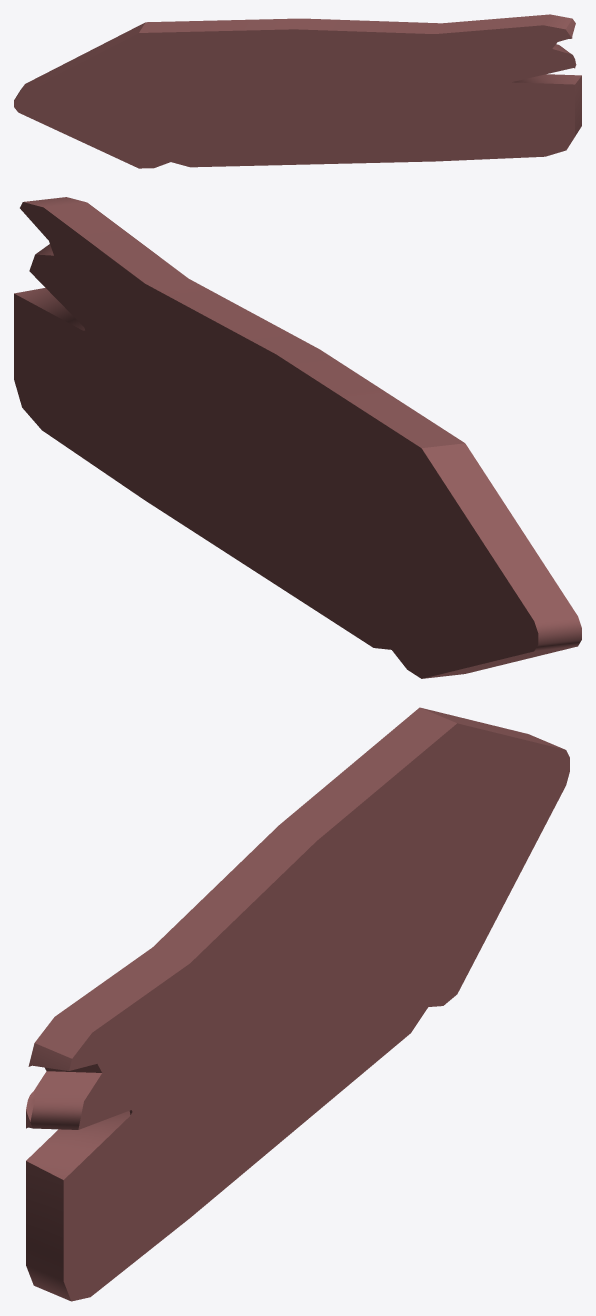
File: Einzelschild.fbx
3 renders of one model, top to bottom at view 1: azimuth 30°, elevation 25°; view 2: azimuth 150°, elevation 25°; view 3: azimuth 270°, elevation 25°, orthographic. The views are drawn at different scales.
Parts seen in each view (by area): view 1: polySurface24; view 2: polySurface24; view 3: polySurface24.
Boxes of the visible parts, x1,y1,x2,y2 form: polySurface24: [14, 14, 581, 168]; polySurface24: [14, 197, 581, 678]; polySurface24: [26, 707, 569, 1301].
Bounding box in the file's own units: 276 × 79.4 × 144.
